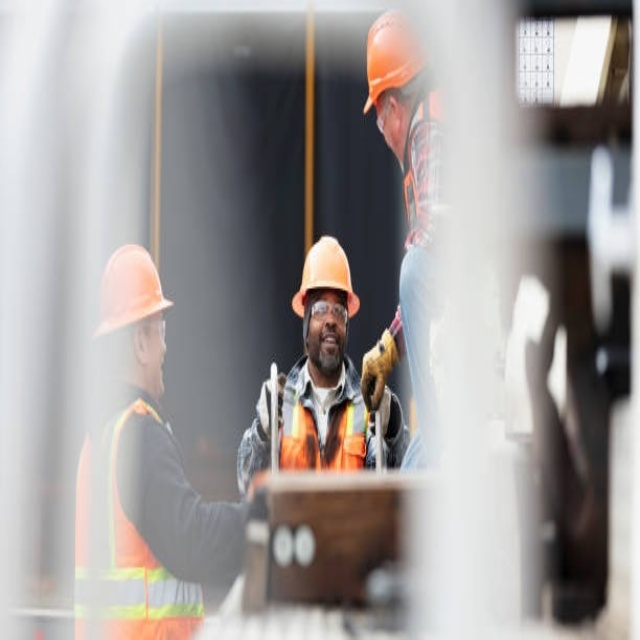Gafas: (308, 300, 348, 325), (375, 96, 392, 135), (143, 317, 167, 339)
Guantes: (361, 328, 400, 412), (256, 371, 287, 440)
Sin_mascara: (147, 348, 167, 392), (318, 329, 339, 361)
